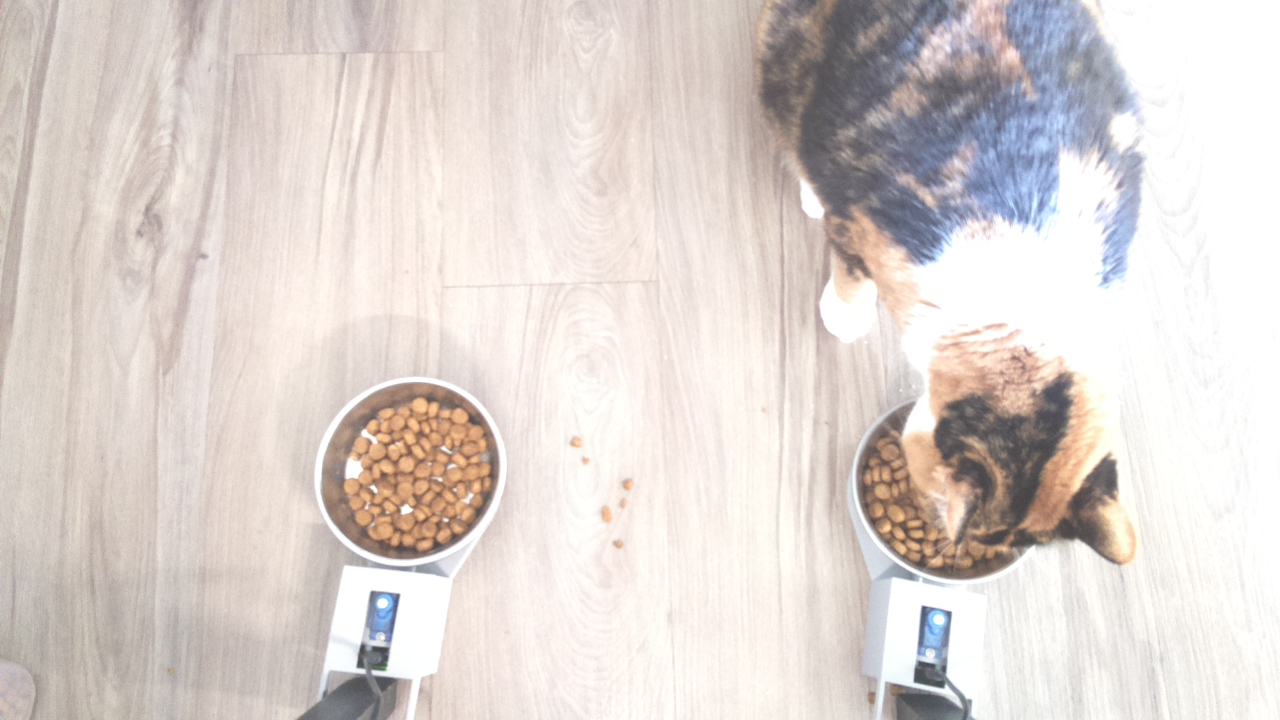bella_eating: (852, 319, 1142, 589)
open_bowl: (313, 377, 506, 568)
